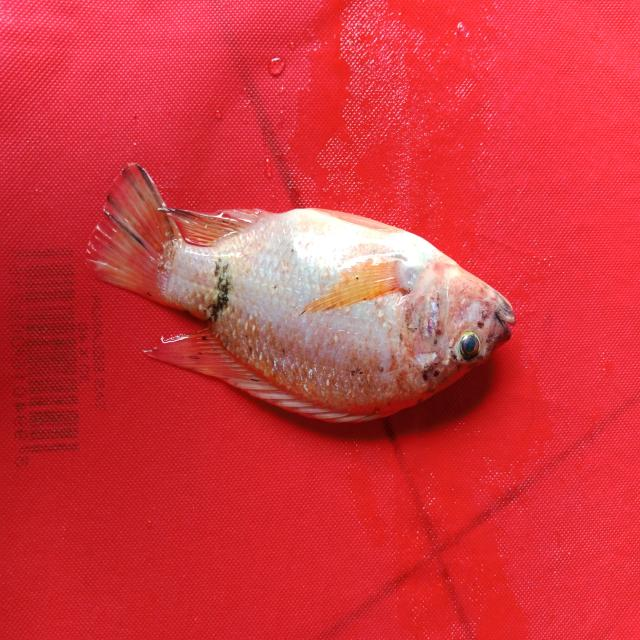ikan: (84, 161, 516, 424)
